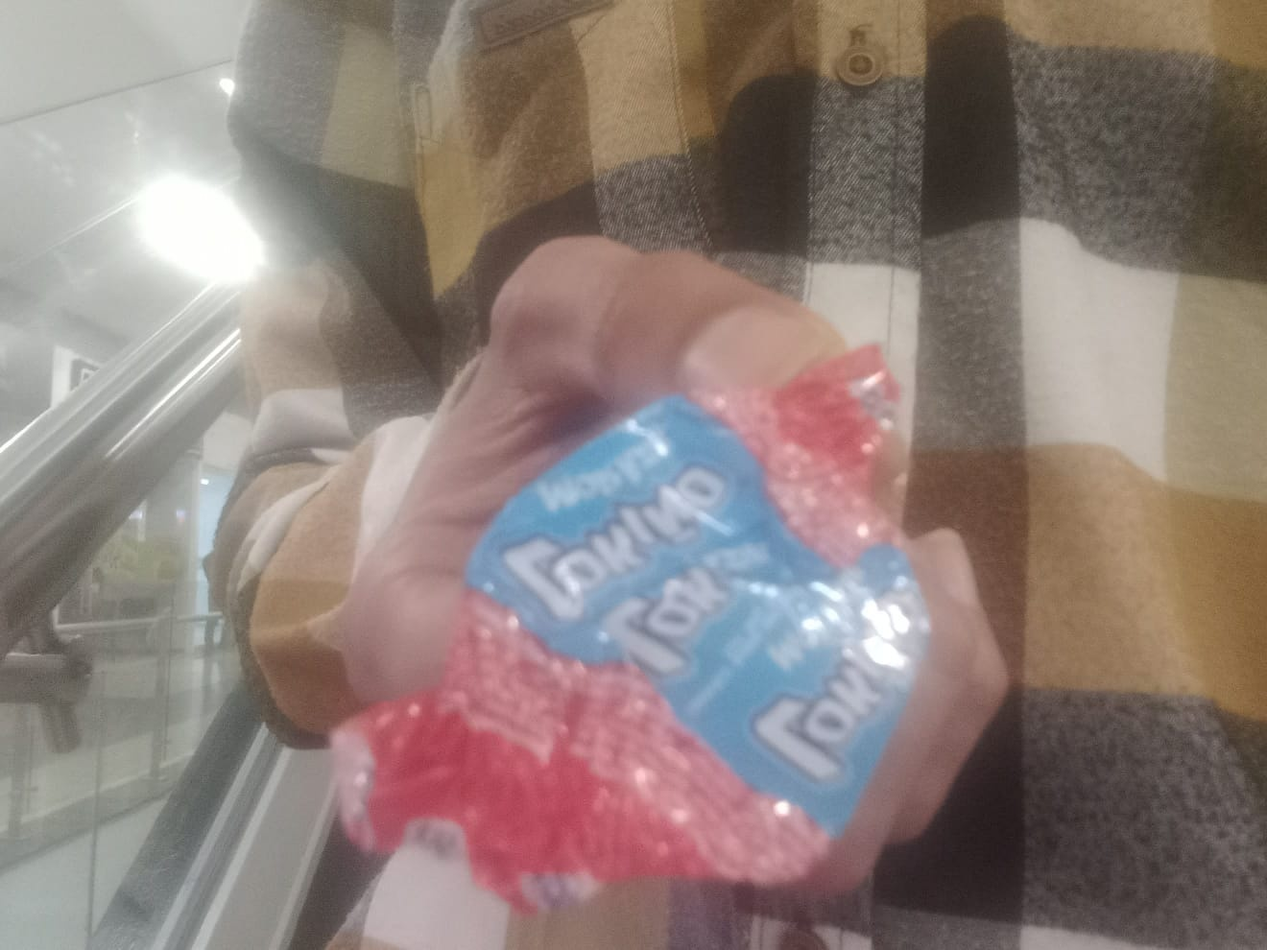Ordinario: (330, 341, 929, 921)
